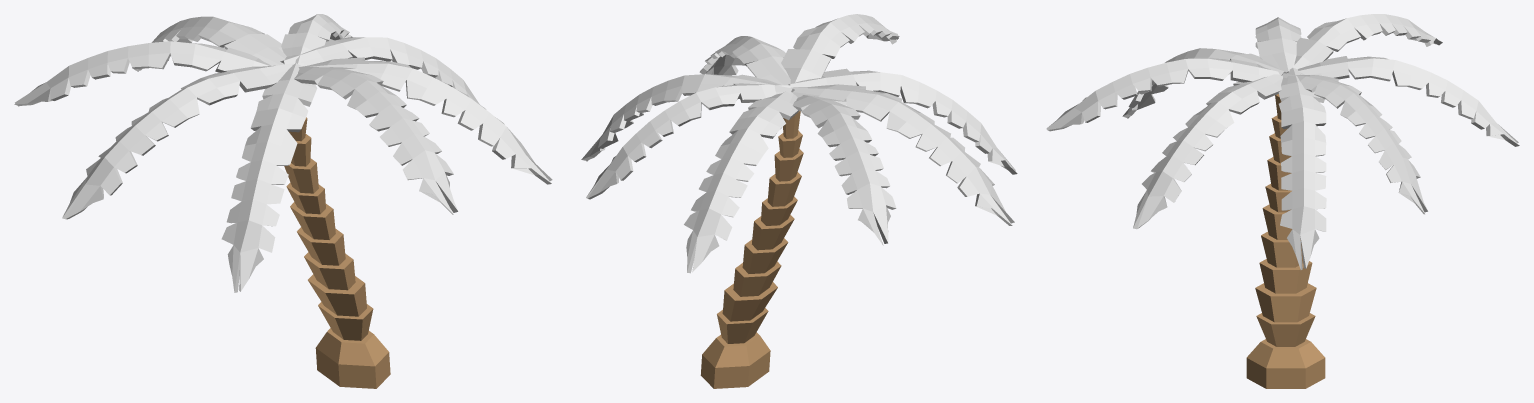
Rendered from PALMTREE.fbx.
3 renders of one model, left to right at view 1: azimuth 30°, elevation 25°; view 2: azimuth 150°, elevation 25°; view 3: azimuth 270°, elevation 25°, orthographic. The views are drawn at different scales.
Parts seen in each view (by area): view 1: Cylinder, Cylinder.006, Cylinder.004, Cylinder.002, Cylinder.008, Cylinder.007, Cylinder.003, Cylinder.001, Cylinder.005; view 2: Cylinder, Cylinder.001, Cylinder.004, Cylinder.007, Cylinder.005, Cylinder.006, Cylinder.002, Cylinder.003, Cylinder.008; view 3: Cylinder, Cylinder.003, Cylinder.008, Cylinder.002, Cylinder.001, Cylinder.005, Cylinder.007, Cylinder.004, Cylinder.006.
Boxes of the visible parts, <box> form: Cylinder: <box>284,117,390,388</box>; Cylinder.006: <box>221,63,317,292</box>; Cylinder.004: <box>62,63,292,219</box>; Cylinder.002: <box>294,67,458,214</box>; Cylinder.008: <box>302,57,552,184</box>; Cylinder.007: <box>14,41,271,106</box>; Cylinder.003: <box>280,37,479,104</box>; Cylinder.001: <box>132,16,293,71</box>; Cylinder.005: <box>281,14,352,66</box>; Cylinder: <box>700,111,803,388</box>; Cylinder.001: <box>684,91,798,273</box>; Cylinder.004: <box>791,84,1014,225</box>; Cylinder.007: <box>792,95,896,245</box>; Cylinder.005: <box>586,83,790,199</box>; Cylinder.006: <box>788,68,1017,174</box>; Cylinder.002: <box>781,14,899,83</box>; Cylinder.003: <box>581,74,794,161</box>; Cylinder.008: <box>699,36,790,85</box>; Cylinder: <box>1246,94,1325,388</box>; Cylinder.003: <box>1278,67,1326,269</box>; Cylinder.008: <box>1133,74,1282,229</box>; Cylinder.002: <box>1046,58,1279,131</box>; Cylinder.001: <box>1287,56,1519,146</box>; Cylinder.005: <box>1282,73,1427,214</box>; Cylinder.007: <box>1294,14,1442,68</box>; Cylinder.004: <box>1255,17,1301,72</box>; Cylinder.006: <box>1122,48,1287,118</box>.
Bounding box in the file's own units: 1143 × 841 × 1202.
